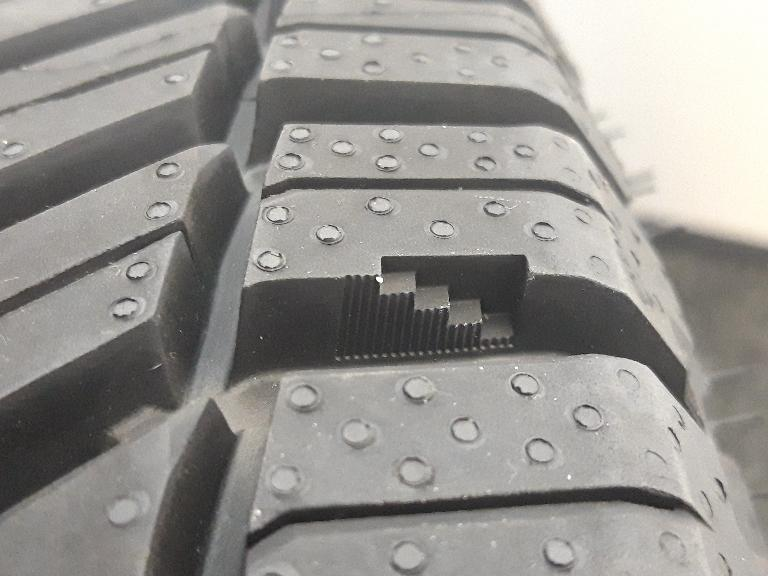temoin:100: (329, 245, 541, 372)
